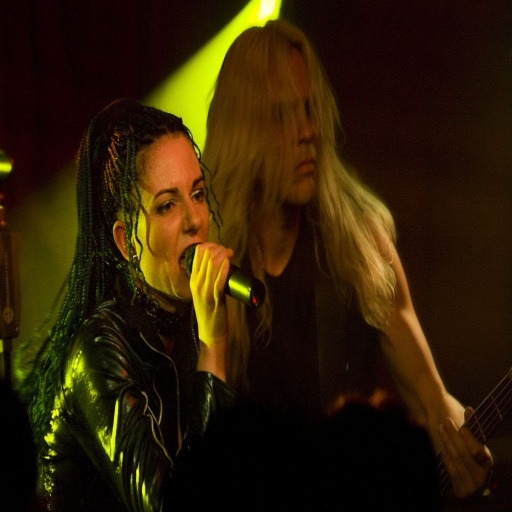hand: (178, 239, 237, 371), (435, 404, 494, 502)
